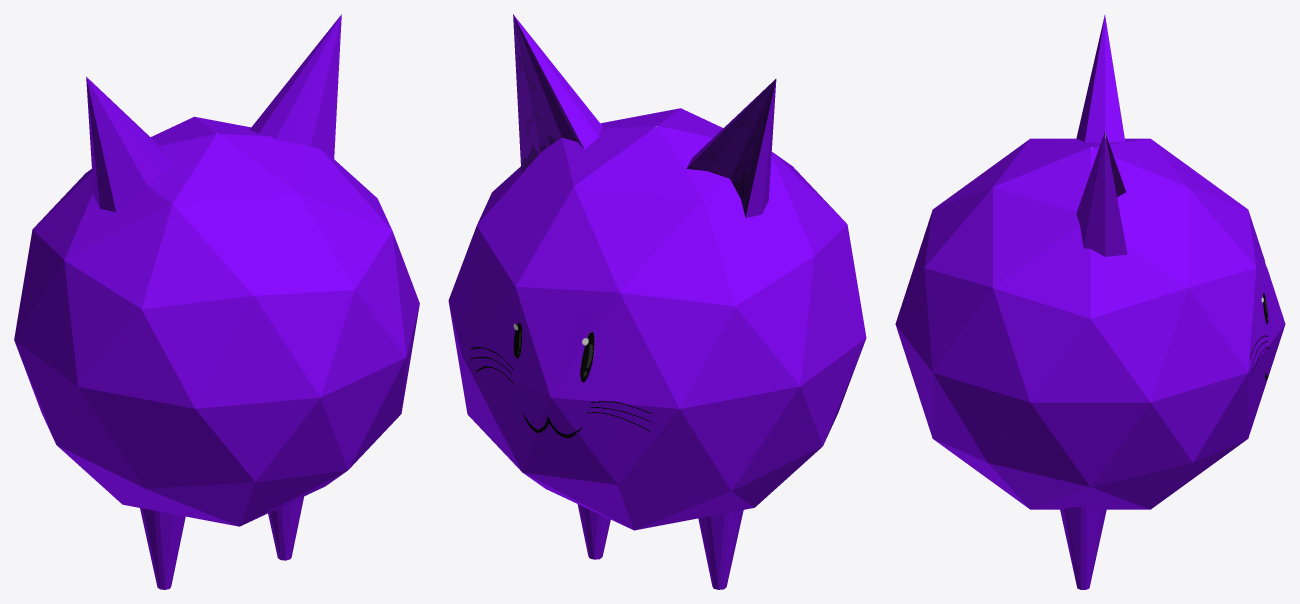
Rendered from Cat.fbx.
The picture shows the model from 3 angles, left to right: view 1: azimuth 30°, elevation 25°; view 2: azimuth 150°, elevation 25°; view 3: azimuth 270°, elevation 25°; orthographic projection. The views are drawn at different scales.
Visible parts, largest first — view 1: Cone; view 2: Cone; view 3: Cone.
Boxes of the visible parts, x1,y1,x2,y2 form: Cone: [14, 14, 419, 589]; Cone: [448, 14, 866, 589]; Cone: [895, 15, 1285, 589].
Size of the model in its own units: 156 by 226 by 164.
